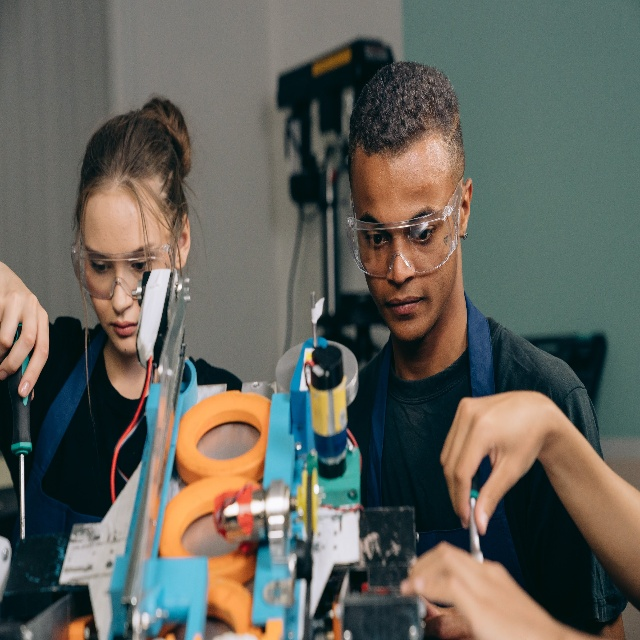Gafas: (347, 191, 459, 277), (68, 228, 181, 311)
Sin_guantes: (437, 385, 543, 537), (400, 543, 535, 640), (0, 264, 51, 393)
